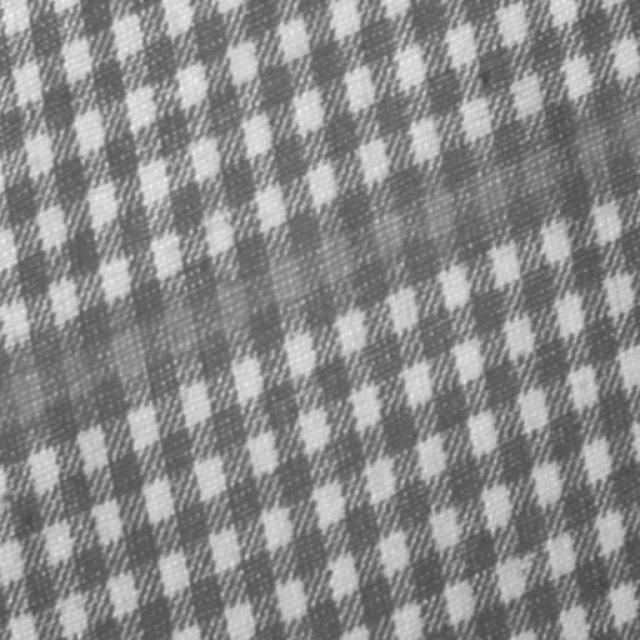Stain-Defect: (2, 99, 635, 435)
